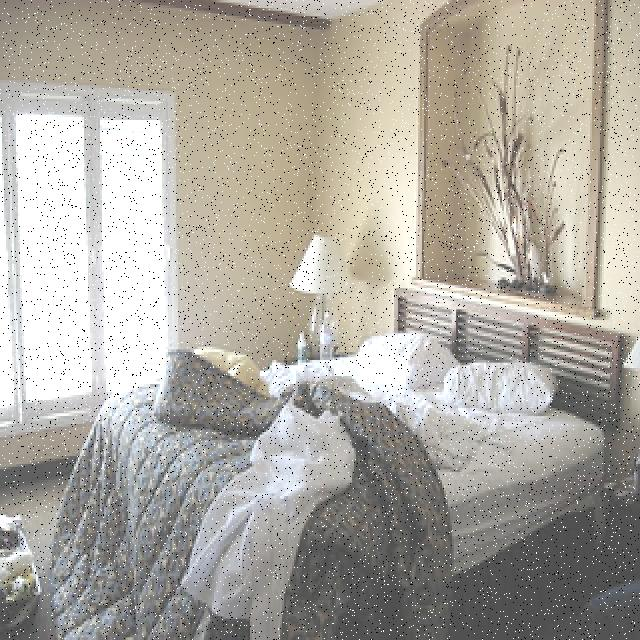bed: (107, 326, 626, 585)
